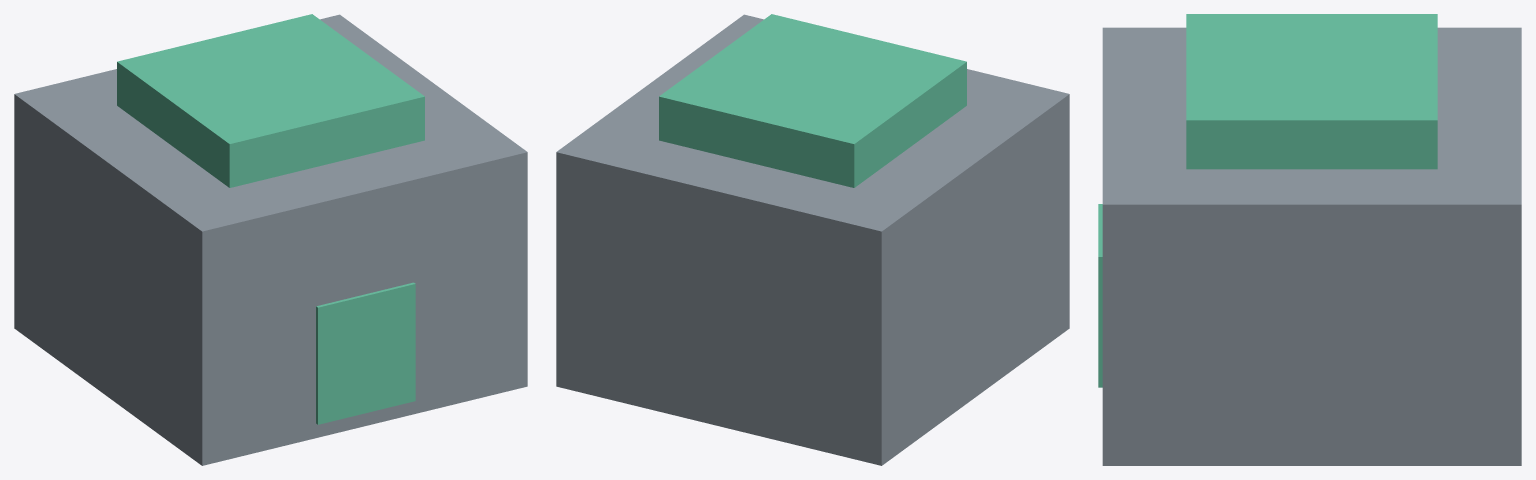
The model's file is CO_SuperweaponMatrix_LOD0.glb.
3 renders of one model, left to right at view 1: azimuth 30°, elevation 25°; view 2: azimuth 150°, elevation 25°; view 3: azimuth 270°, elevation 25°, orthographic. The views are drawn at different scales.
Parts seen in each view (by area): view 1: EntranceGate; view 2: EntranceGate; view 3: EntranceGate.
Boxes of the visible parts, x1,y1,x2,y2 form: EntranceGate: (14, 14, 527, 465); EntranceGate: (556, 14, 1069, 465); EntranceGate: (1098, 14, 1521, 465).
Bounding box in the file's own units: 1000 × 817 × 1010.
